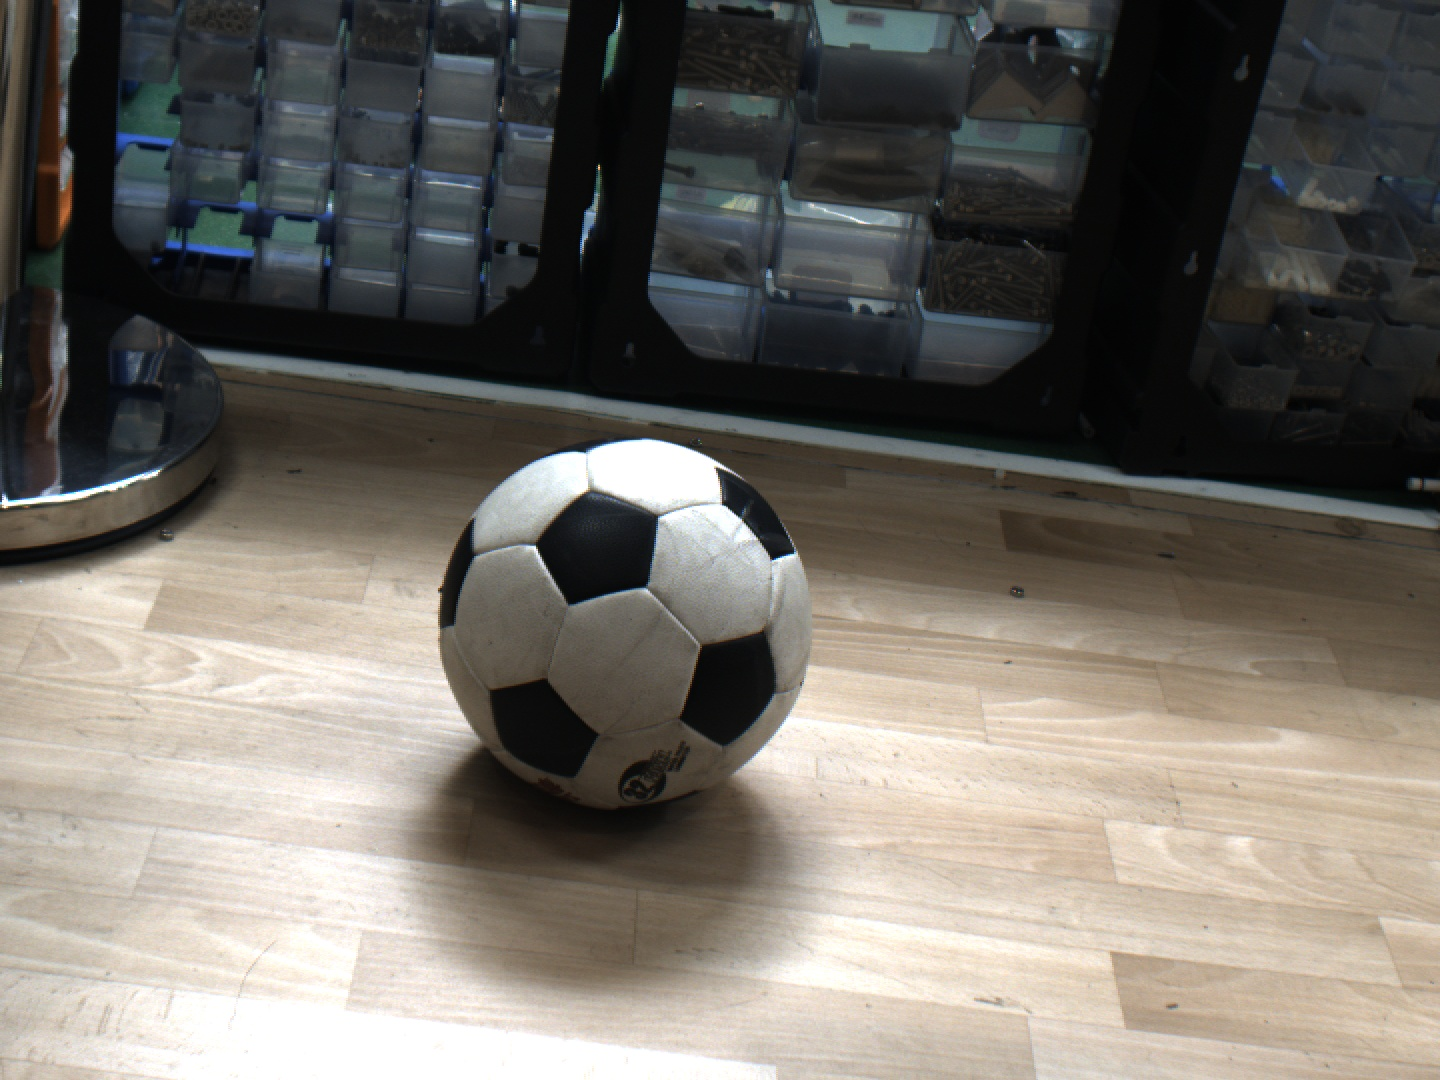ball: (438, 437, 815, 815)
